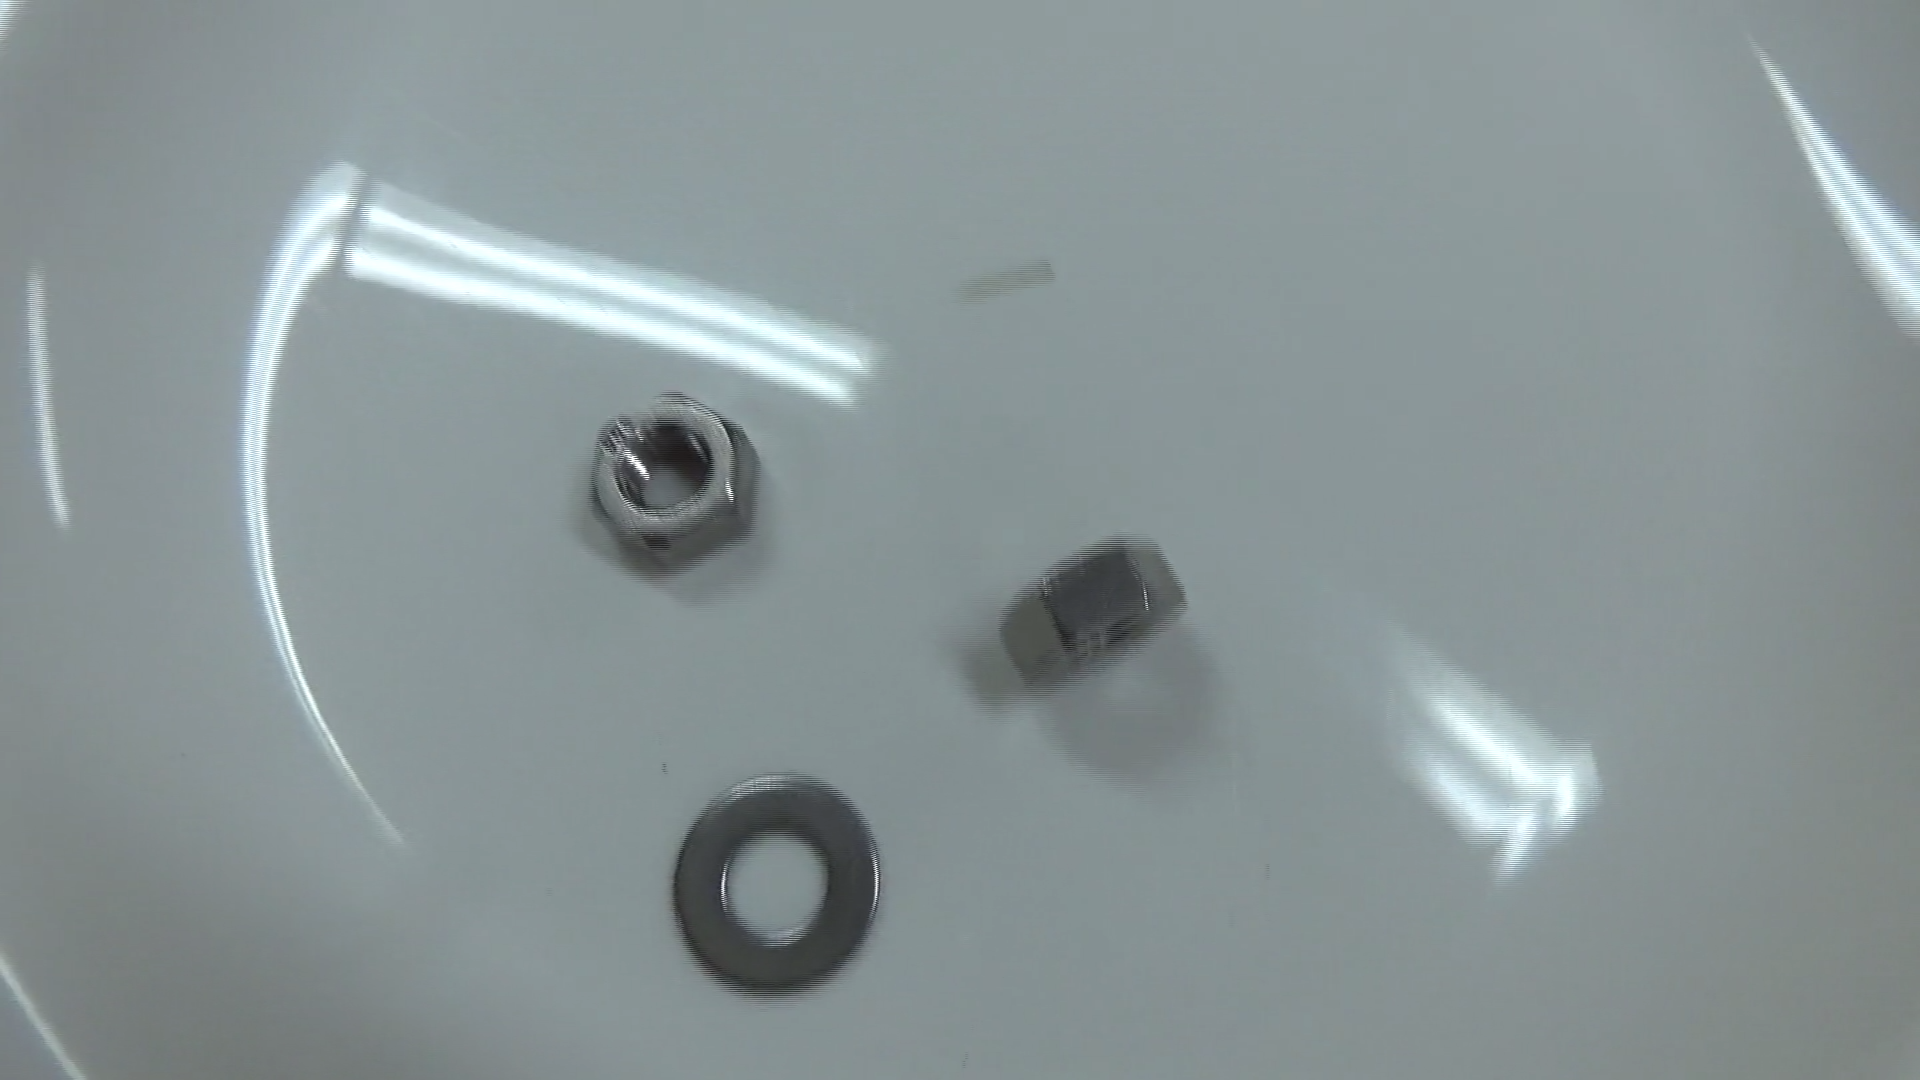nut: (575, 357, 771, 585), (986, 514, 1193, 696)
washer: (654, 757, 895, 1004)
